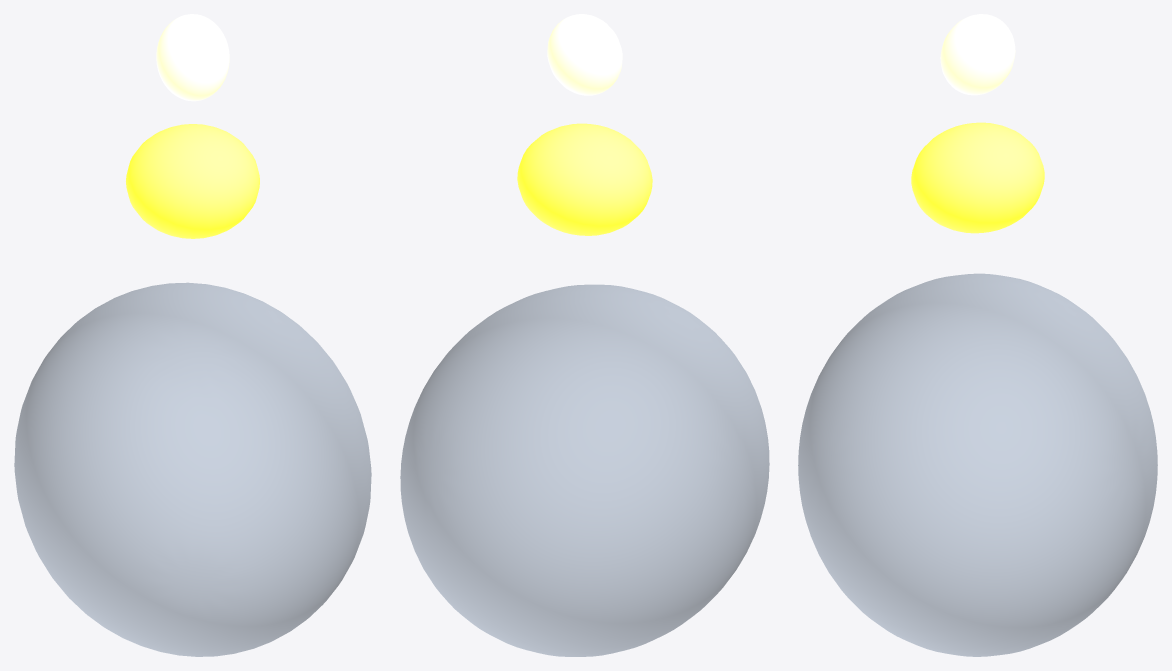
The picture shows the model from 3 angles, left to right: view 1: azimuth 30°, elevation 25°; view 2: azimuth 150°, elevation 25°; view 3: azimuth 270°, elevation 25°; orthographic projection.
Parts seen in each view (by area): view 1: Sphere, Sphere.001, Sphere.002; view 2: Sphere, Sphere.001, Sphere.002; view 3: Sphere, Sphere.001, Sphere.002.
Boxes of the visible parts, x1=… form: Sphere: x1=14, y1=282, x2=371, y2=656; Sphere.001: x1=126, y1=124, x2=259, y2=238; Sphere.002: x1=156, y1=14, x2=229, y2=101; Sphere: x1=400, y1=284, x2=769, y2=656; Sphere.001: x1=517, y1=123, x2=652, y2=235; Sphere.002: x1=547, y1=14, x2=622, y2=95; Sphere: x1=798, y1=273, x2=1157, y2=656; Sphere.001: x1=911, y1=122, x2=1044, y2=233; Sphere.002: x1=940, y1=14, x2=1015, y2=95.
Size of the model in its own units: 1.15 by 2.19 by 1.15.
